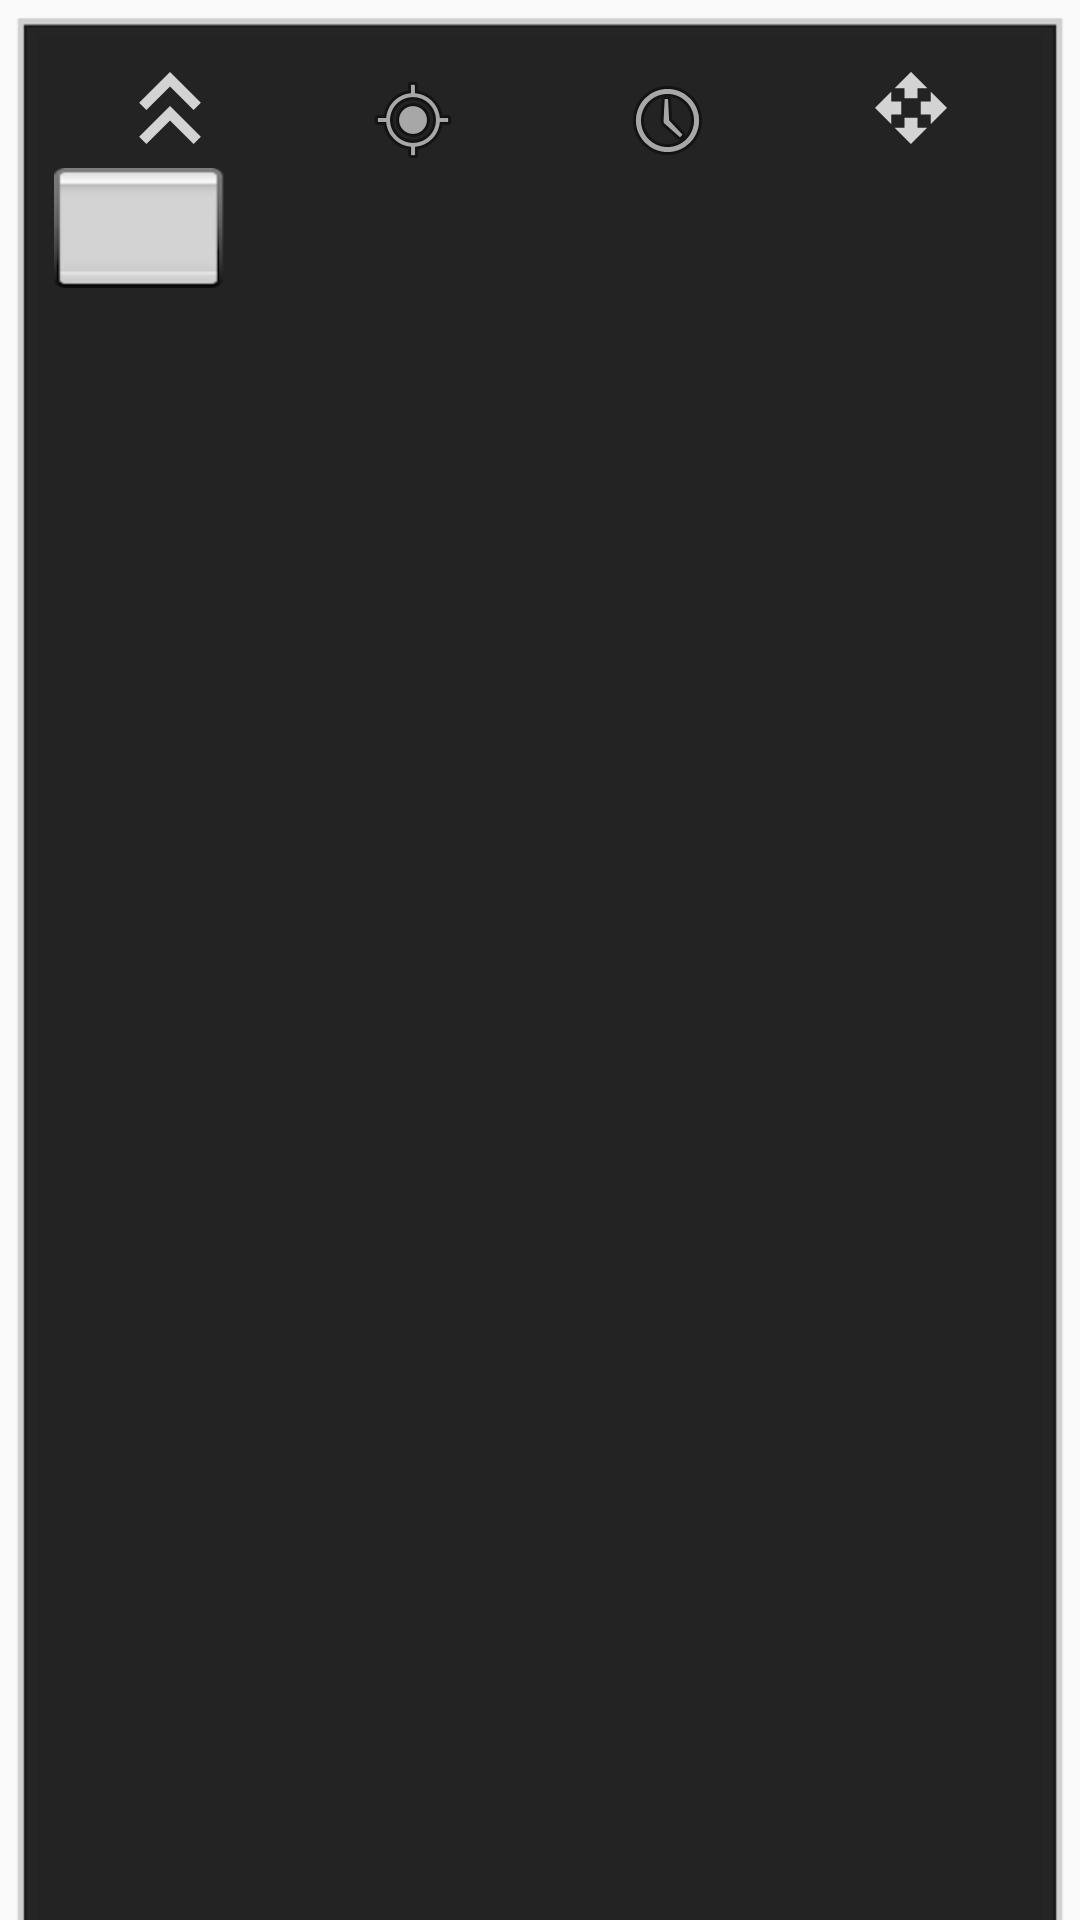

Named icons in this screenshot (1080 x 1920) and their bounding boxes, {"left": x1, "top": y1, "right": x2, "bottom": y2}:
lvlup: {"left": 139, "top": 72, "right": 201, "bottom": 144}
mylocation: {"left": 378, "top": 85, "right": 448, "bottom": 155}
recent history: {"left": 636, "top": 89, "right": 699, "bottom": 152}
